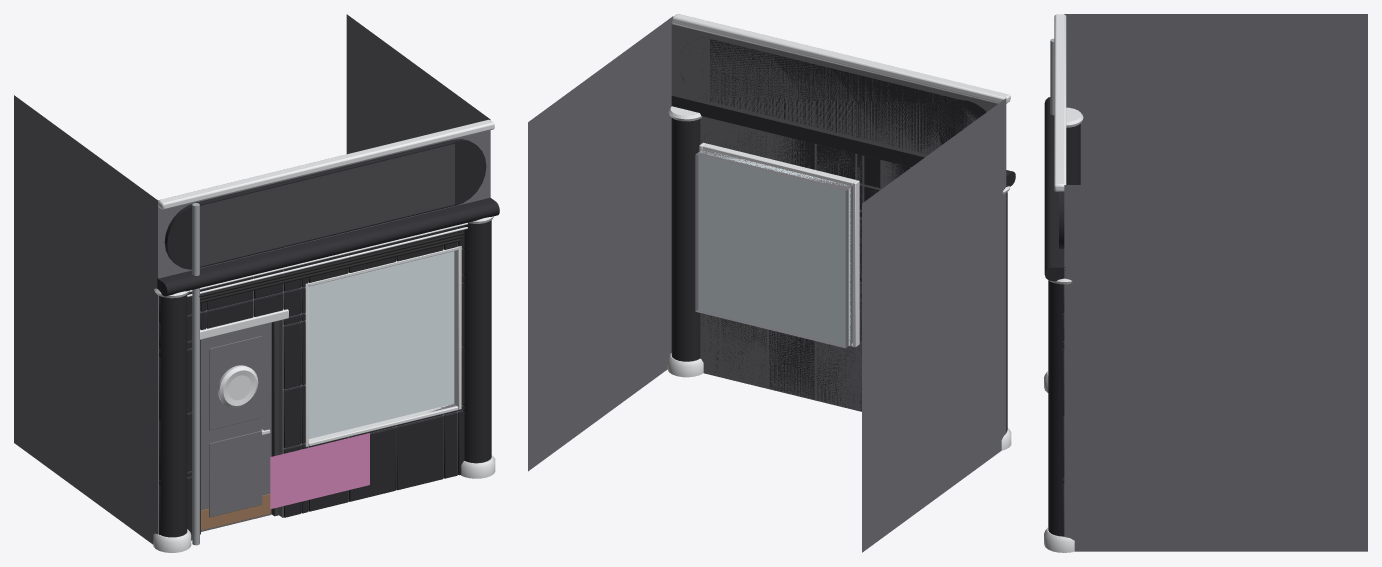
Rendered from retro_wall_4a.glb.
3 views of the same model, side by side, from view 1: azimuth 30°, elevation 25°; view 2: azimuth 150°, elevation 25°; view 3: azimuth 270°, elevation 25° (orthographic). The views are drawn at different scales.
Parts seen in each view (by area): view 1: retro_wall_4a; view 2: retro_wall_4a; view 3: retro_wall_4a.
Part boxes in pixels (x1,y1,x2,y2): retro_wall_4a: [14, 14, 499, 552]; retro_wall_4a: [528, 14, 1015, 552]; retro_wall_4a: [1044, 14, 1367, 552].
Size of the model in its own units: 4.06 by 4 by 3.2.
